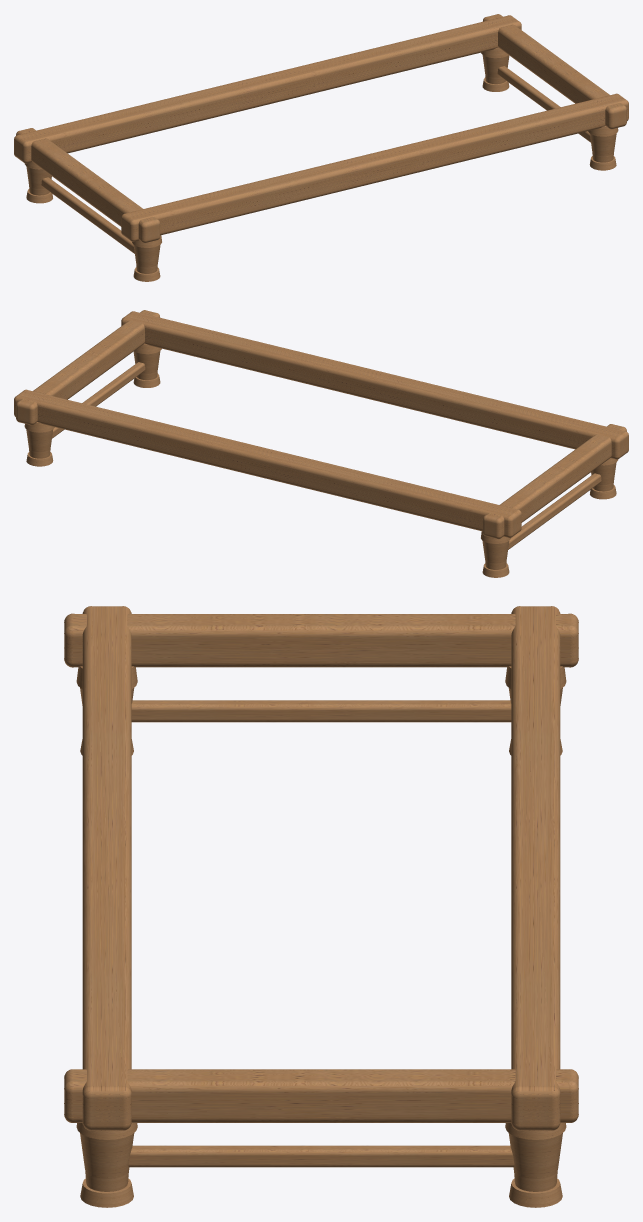
File: sofa-wood.glb
The picture shows the model from 3 angles, top to bottom: view 1: azimuth 30°, elevation 25°; view 2: azimuth 150°, elevation 25°; view 3: azimuth 270°, elevation 25°; orthographic projection. The views are drawn at different scales.
Visible parts, largest first — view 1: wood; view 2: wood; view 3: wood.
Part boxes in pixels (left/top/right/bottom): wood: left=14, top=14, right=628, bottom=281; wood: left=14, top=310, right=628, bottom=577; wood: left=64, top=606, right=578, bottom=1207.
Bounding box in the file's own units: 1.88 × 0.2293 × 0.8405.
Materials: 1 (1 with a texture image).
